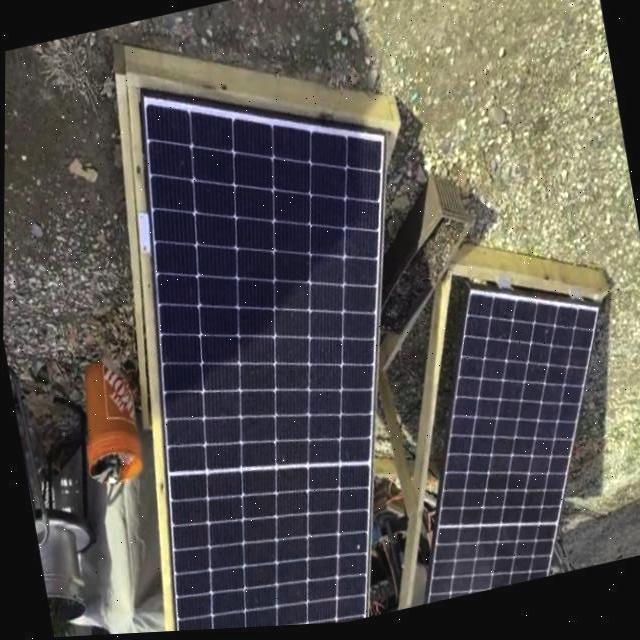Normal Solar Panel: (80, 48, 460, 636), (374, 262, 640, 611)
